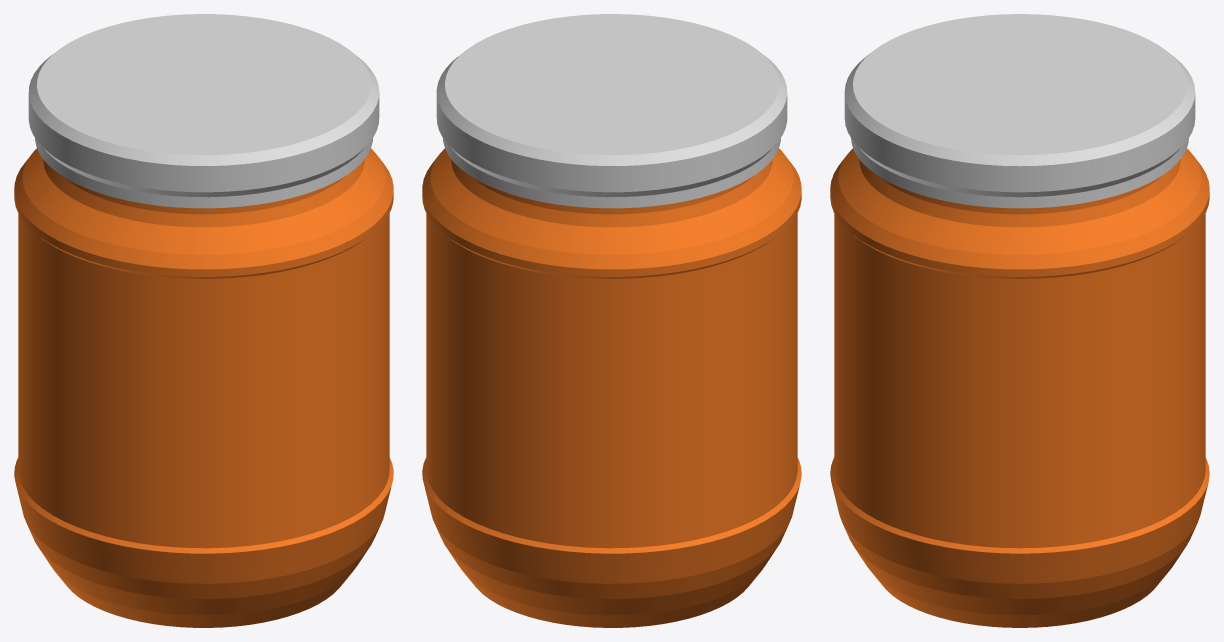
3 renders of one model, left to right at view 1: azimuth 30°, elevation 25°; view 2: azimuth 150°, elevation 25°; view 3: azimuth 270°, elevation 25°, orthographic.
Parts seen in each view (by area): view 1: body, cap; view 2: body, cap; view 3: body, cap.
Part boxes in pixels (bbox=[...]): body: bbox=[14, 148, 393, 627]; cap: bbox=[28, 14, 379, 208]; body: bbox=[422, 148, 801, 627]; cap: bbox=[436, 14, 787, 208]; body: bbox=[830, 148, 1209, 627]; cap: bbox=[844, 14, 1195, 208].
Bounding box in the file's own units: 0.092 × 0.13 × 0.092.
